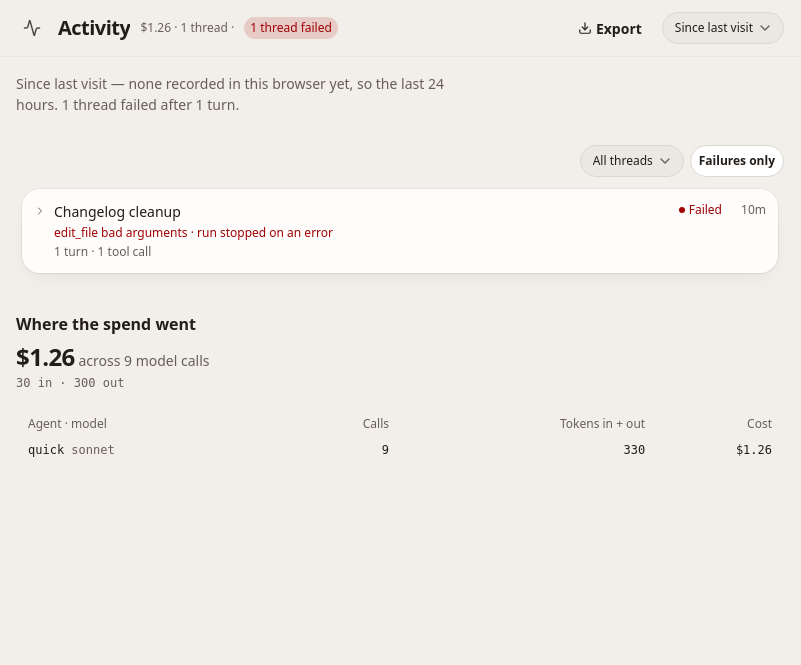
Test: the ledger page › holds still while a thread is open, says so at the top, and catches up on close
Click the button "Changelog cleanup": (117, 212) [22,189,778,273]
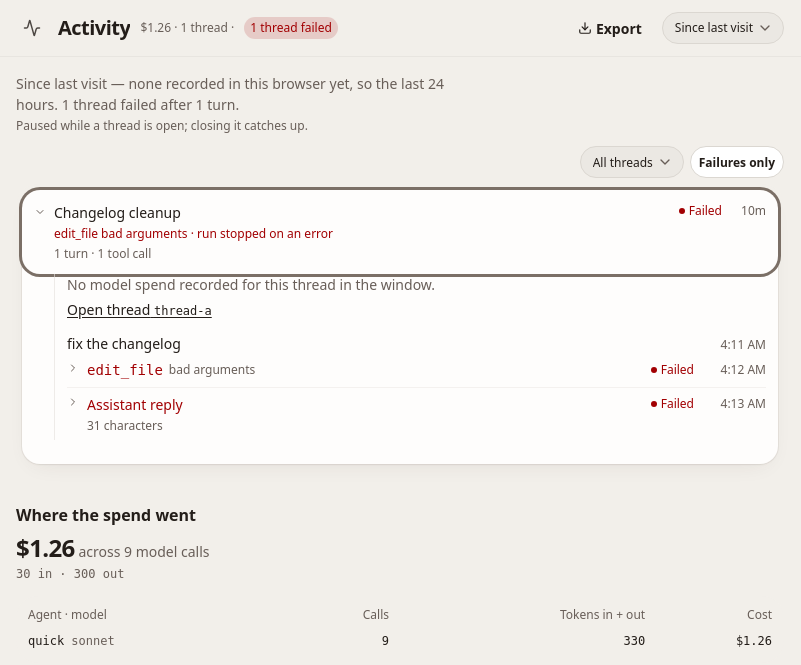
Expected: the text "Paused while a thread is open; closing it catches up." is shown, [16,117,308,134]
Click the button "Changelog cleanup": (117, 213) [22,190,778,274]
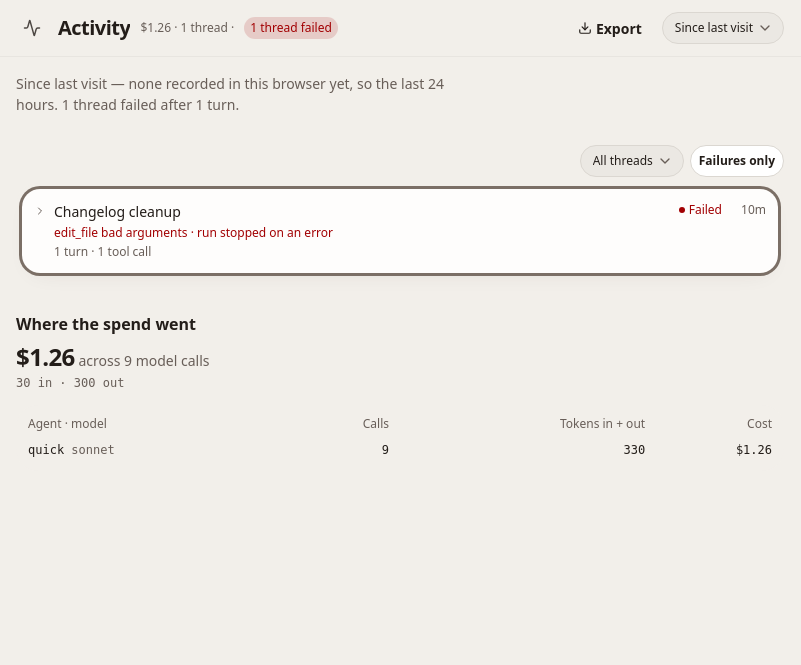
Expected: the text "Paused while a thread is open" is gone
